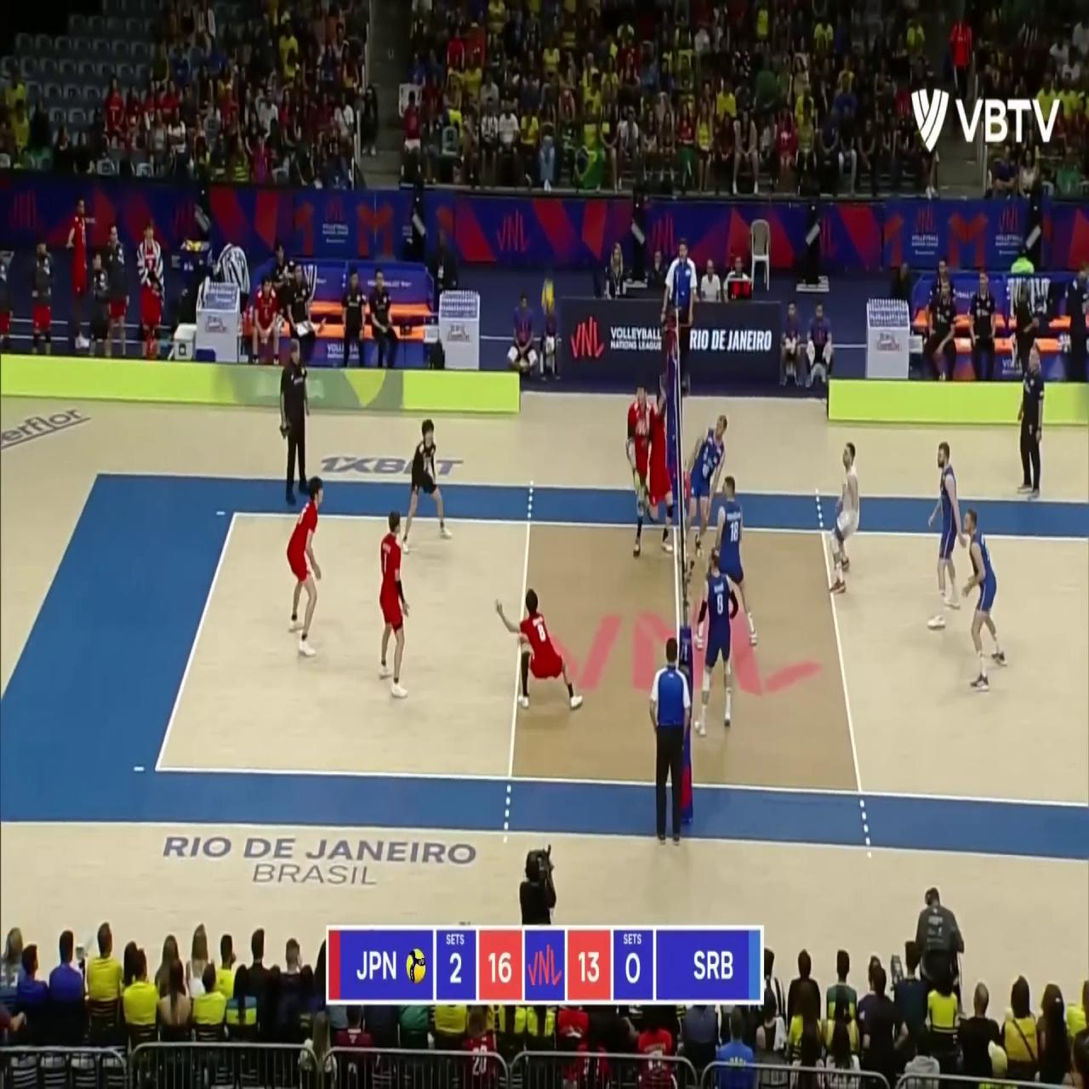ball: (541, 281, 553, 306)
